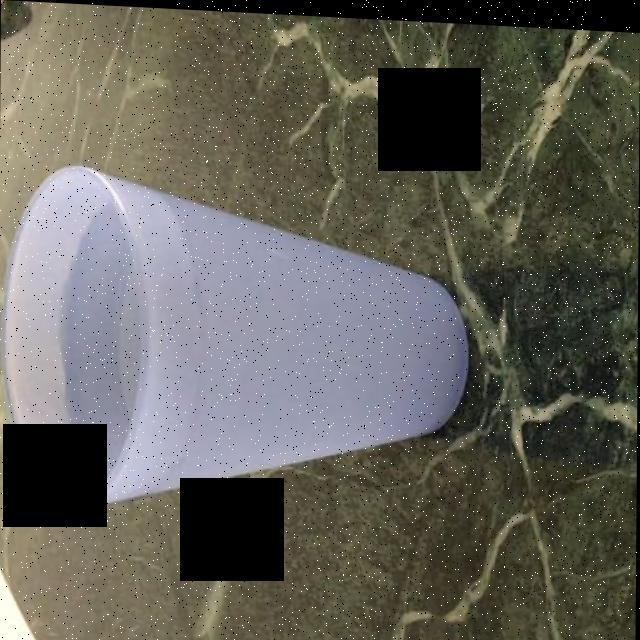water: (35, 181, 455, 487)
